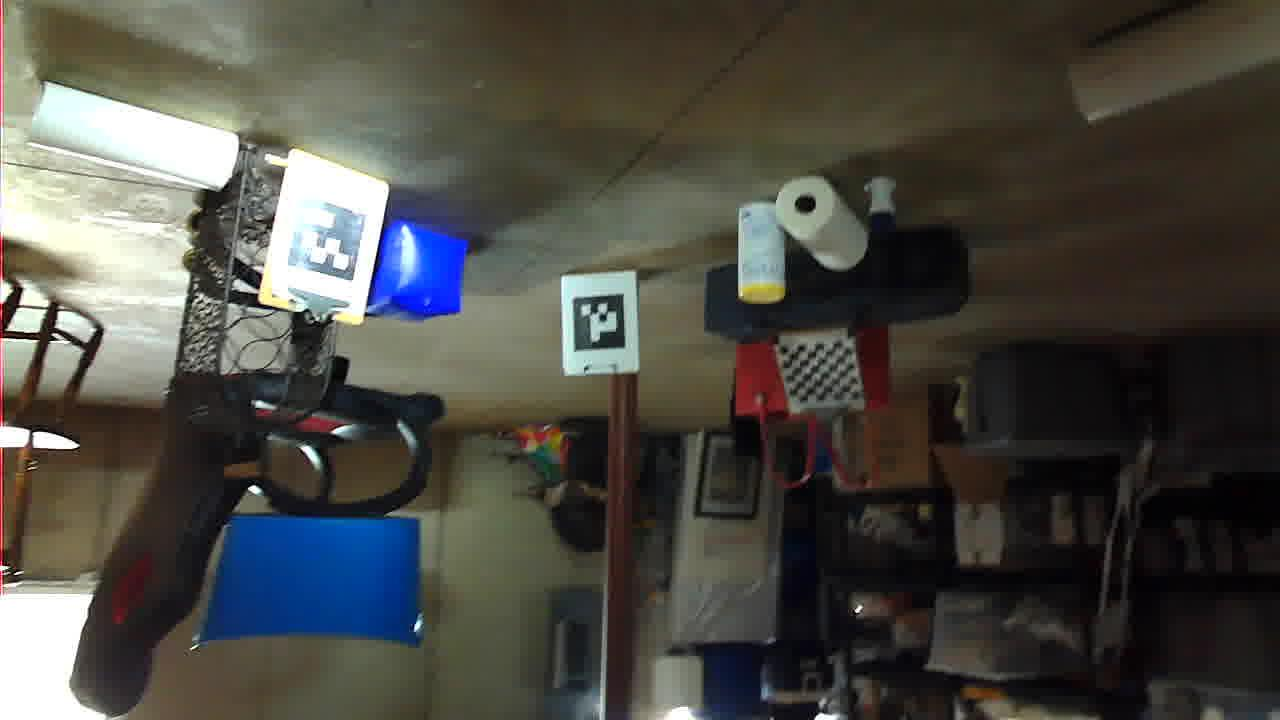coral: (0, 596, 215, 720), (1041, 529, 1256, 640)
